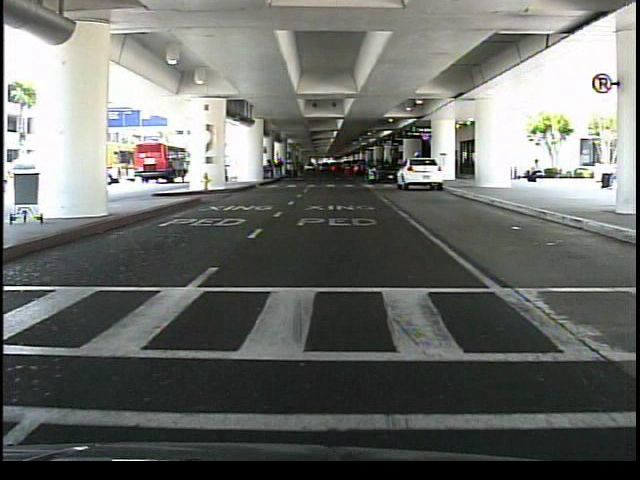person: (520, 154, 547, 190)
